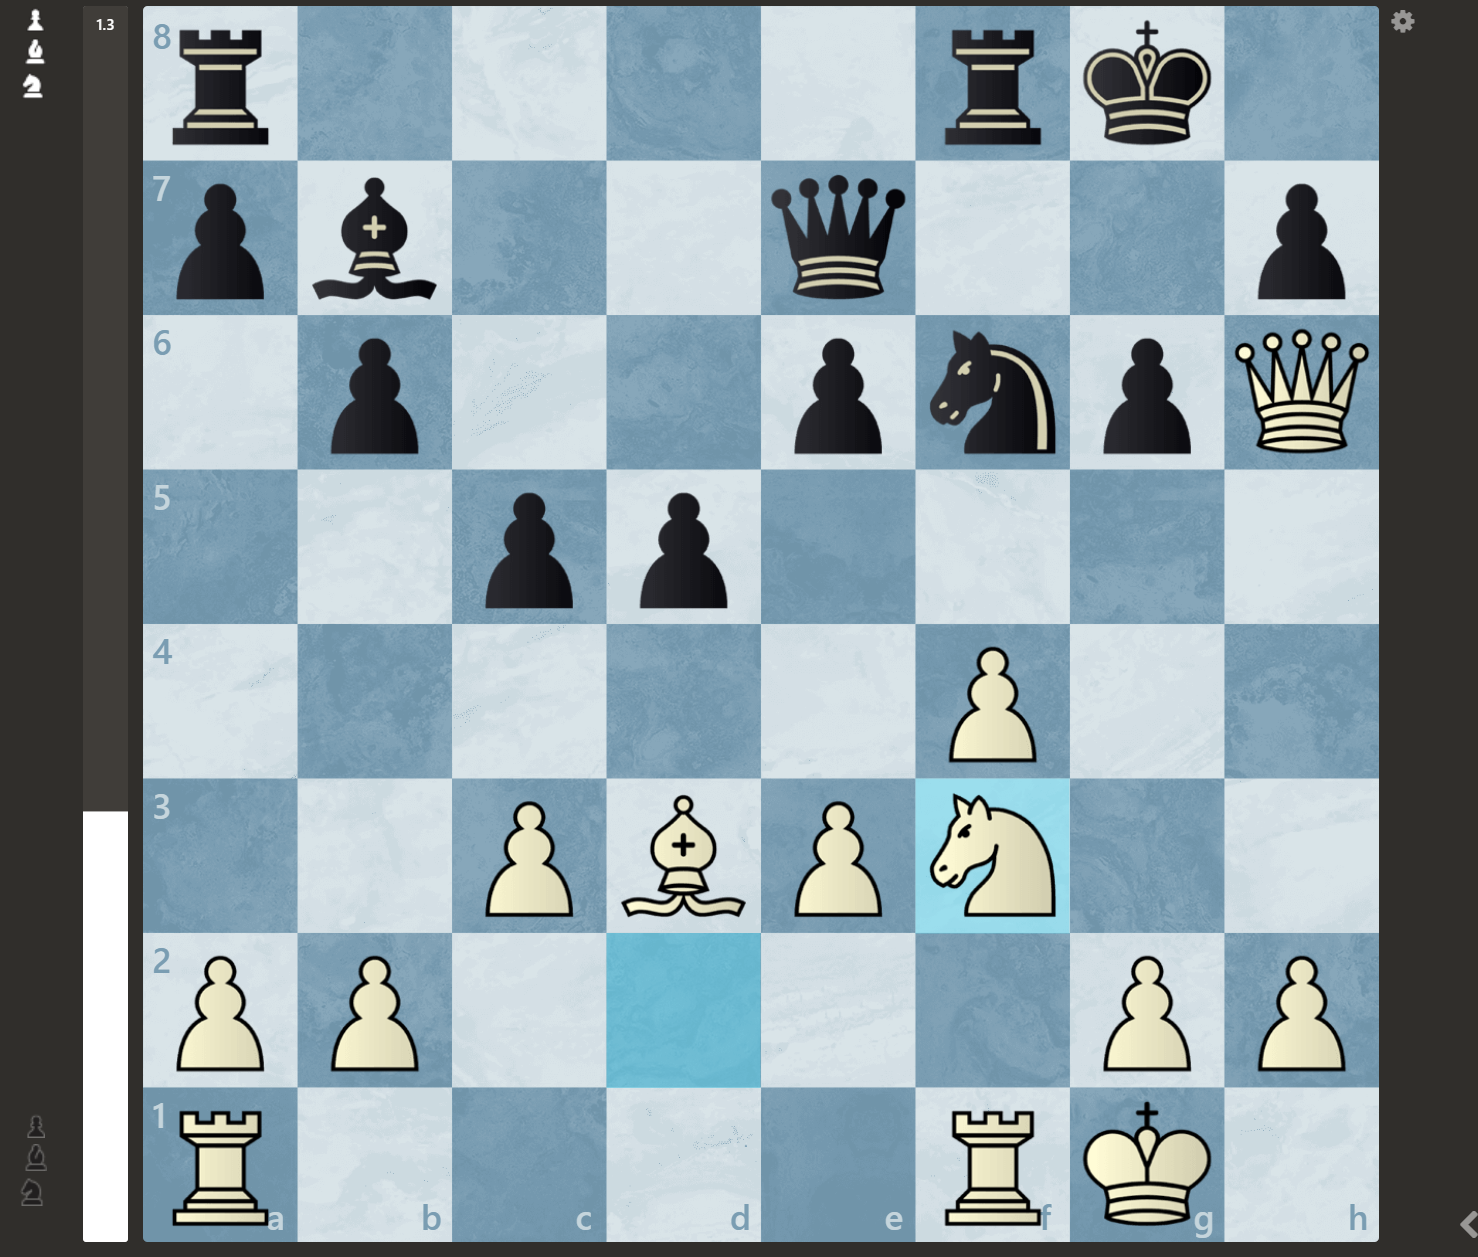beyaz_at: (917, 779, 1068, 924)
beyaz_fil: (614, 783, 755, 929)
beyaz_kale: (924, 1097, 1061, 1236), (153, 1100, 292, 1236)
beyaz_piyon: (1235, 939, 1373, 1082), (456, 784, 596, 925), (1083, 939, 1224, 1079), (153, 939, 287, 1082), (928, 630, 1056, 774), (772, 789, 907, 927), (313, 938, 437, 1077)
beyaz_sah: (1075, 1091, 1216, 1245)
beyaz_vezir: (1230, 319, 1371, 466)
siyah_fil: (299, 162, 445, 308), (922, 325, 1061, 459)
siyah_kale: (146, 9, 291, 146), (924, 14, 1065, 150)
siyah_piyon: (303, 322, 445, 465), (151, 165, 288, 306), (768, 329, 913, 461), (1078, 322, 1211, 461), (461, 473, 591, 615), (617, 476, 750, 615), (1234, 163, 1364, 301)
siyah_sah: (1075, 12, 1221, 153)
siyah_vezir: (765, 158, 910, 304)
